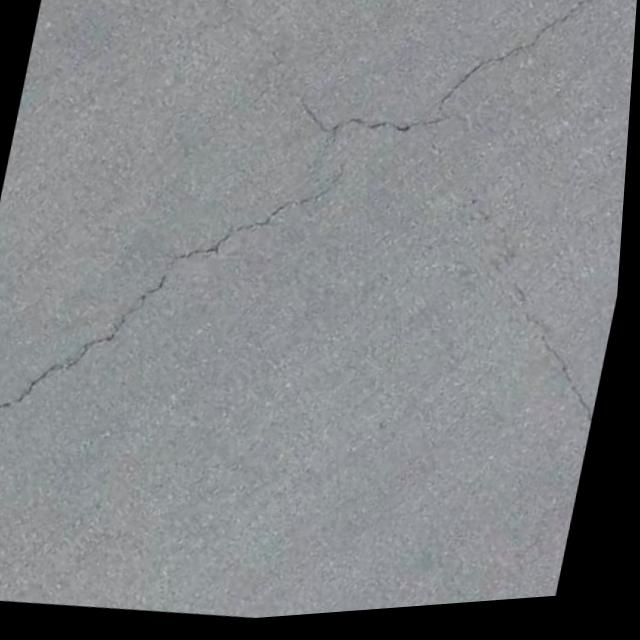Crack: (0, 145, 309, 504), (268, 0, 633, 209)
